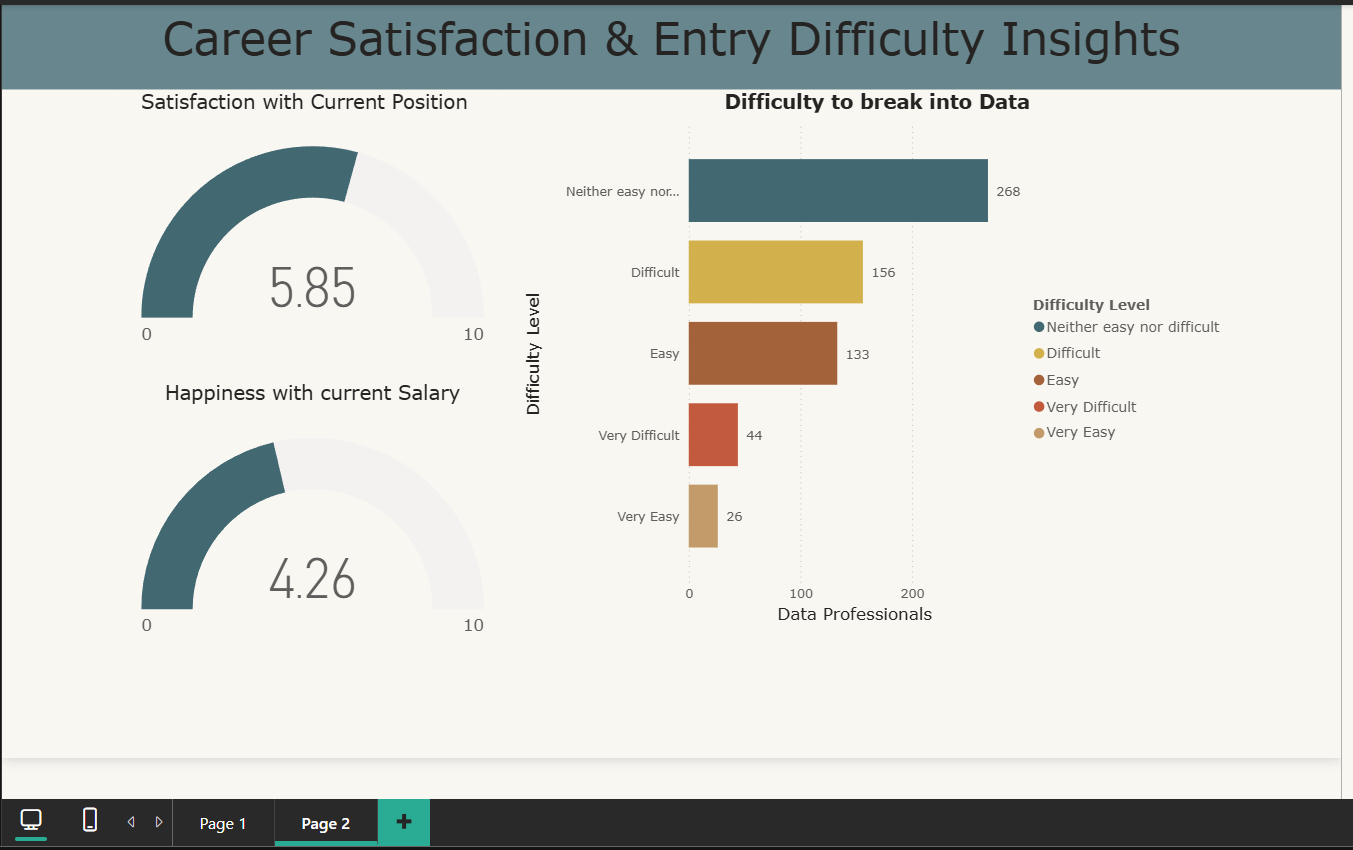

This screenshot's page, from the dashboard's own definition file:
{"tool":"powerbi","page":{"name":"Page 2","canvas":[1280,720],"ordinal":1},"visuals":[{"type":"gauge","title":"Satisfaction with Current Position","fields":{"Y":["Avg(Data Professional Survey.Q6 - How Happy are you in your Current Position with the following? (Coworkers))"],"MinValue":["Min(Data Professional Survey.Q6 - How Happy are you in your Current Position with the following? (Coworkers))"],"MaxValue":["Max(Data Professional Survey.Q6 - How Happy are you in your Current Position with the following? (Coworkers))1"]},"box":[127.8,80.6,337.6,279.3],"z":0},{"type":"gauge","title":"Happiness with current Salary","fields":{"Y":["Avg(Data Professional Survey.Q6 - How Happy are you in your Current Position with the following? (Salary))"],"MinValue":["Min(Data Professional Survey.Q6 - How Happy are you in your Current Position with the following? (Salary))"],"MaxValue":["Max(Data Professional Survey.Q6 - How Happy are you in your Current Position with the following? (Salary))"]},"box":[127.8,359.9,337.6,279.3],"z":1000},{"type":"barChart","title":"Difficulty to break into Data","fields":{"Category":["Data Professional Survey.Q7 - How difficult was it for you to break into Data?"],"Series":["Data Professional Survey.Q7 - How difficult was it for you to break into Data?"],"Y":["CountNonNull(Data Professional Survey.Unique ID)"]},"box":[494.6,80.6,683.6,515.5],"z":2000},{"type":"textbox","box":[0,0,1279.6,80.6],"z":3000}]}

Visuals, with their boxes on the page's 1280x720 design canvas (x1, y1, x2, y2). These are canvas units, not pixel positions in the 1353x850 screenshot, which may show the page scaled, cropped or inside an application window:
"Satisfaction with Current Position" gauge: x1=128, y1=81, x2=465, y2=360
"Happiness with current Salary" gauge: x1=128, y1=360, x2=465, y2=639
"Difficulty to break into Data" barChart: x1=495, y1=81, x2=1178, y2=596
textbox: x1=0, y1=0, x2=1280, y2=81
